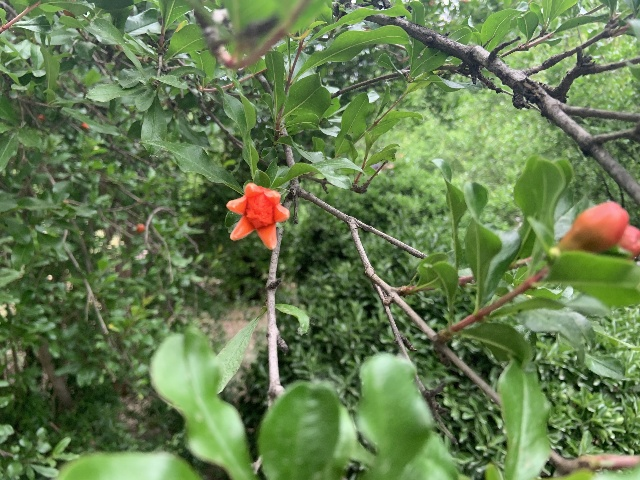bud: (558, 201, 630, 254), (617, 224, 639, 258)
flower: (226, 182, 289, 249)
